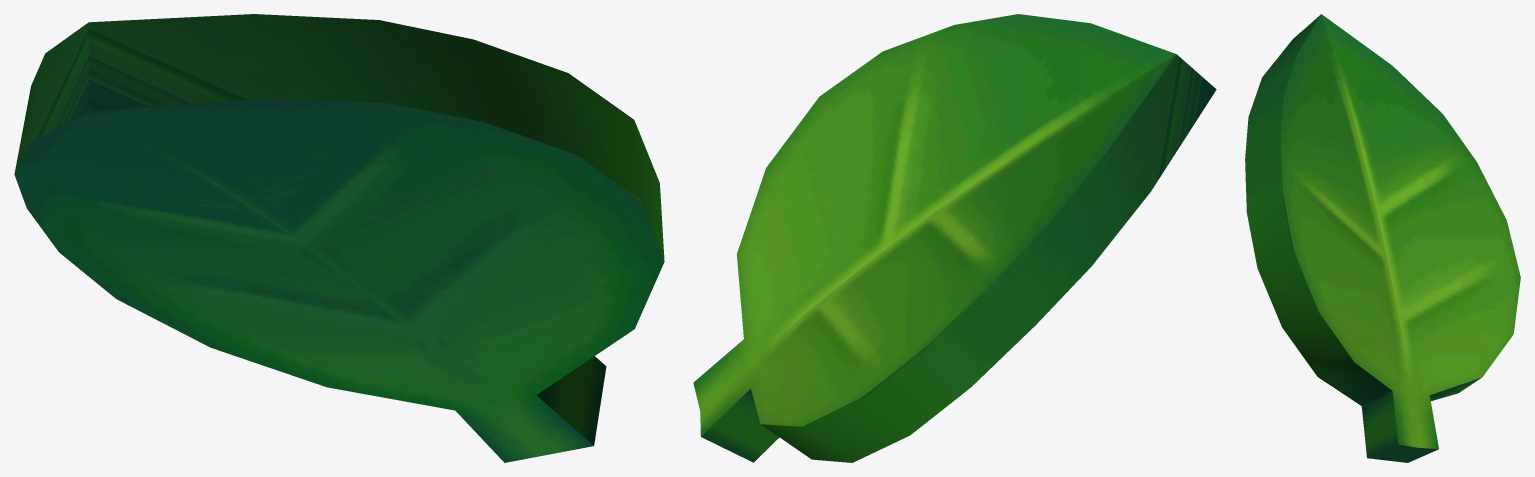
The model's file is HAPPA00.ICO.obj.
3 renders of one model, left to right at view 1: azimuth 30°, elevation 25°; view 2: azimuth 150°, elevation 25°; view 3: azimuth 270°, elevation 25°, orthographic. The views are drawn at different scales.
Size of the model in its own units: 3.73 by 3.59 by 2.78.
1 material, 1 textured.
